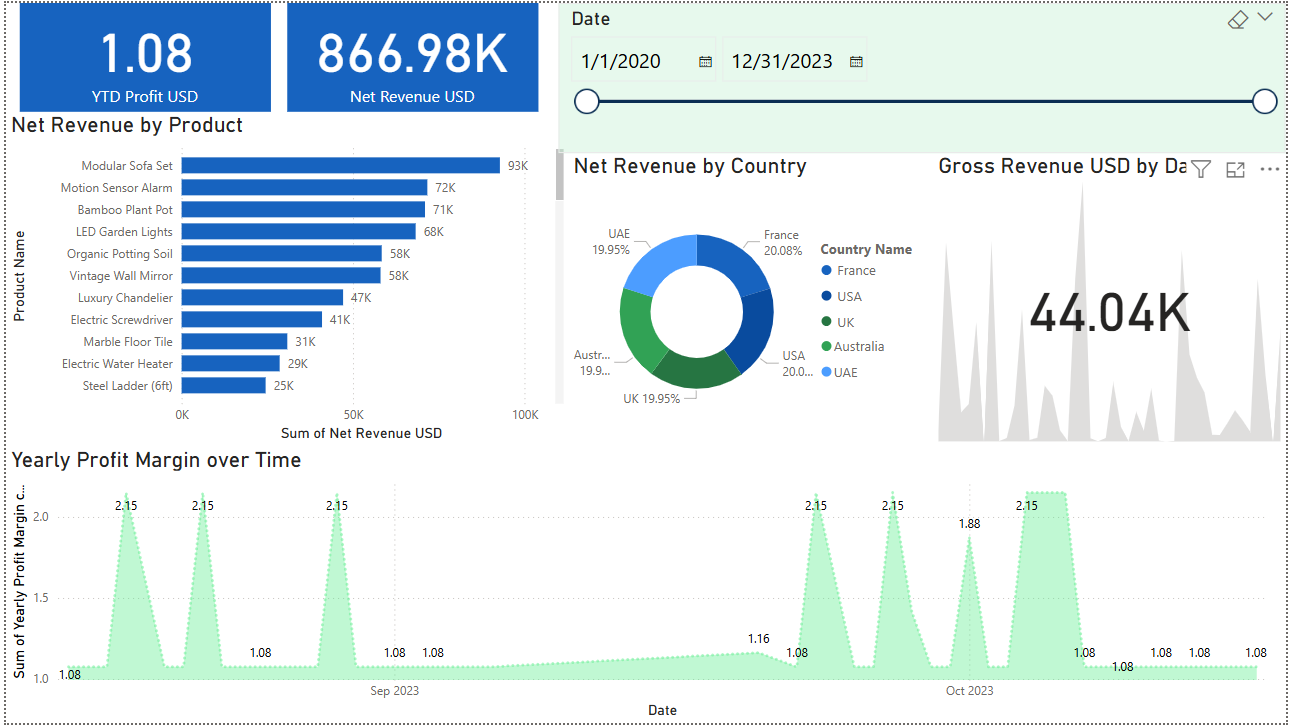

The dashboard page shown, as its layout file describes it:
{"tool":"powerbi","page":{"name":"USD Profit Overview","canvas":[1280,720],"ordinal":2},"visuals":[{"type":"clusteredBarChart","title":"Net Revenue by Product","fields":{"Category":["Sales in USD.Product Name"],"Y":["Sum(Sales in USD.Net Revenue USD)"]},"box":[0,108.8,562.5,335],"z":0},{"type":"donutChart","title":"Net Revenue by Country","fields":{"Category":["Sales in USD.Country Name"],"Y":["Sales in USD.Yearly Profit Margin"]},"box":[562.5,150,365,293.8],"z":1000},{"type":"areaChart","title":"Yearly Profit Margin over Time","fields":{"Category":["Calendar.Date"],"Y":["Sum(Sales in USD.Yearly Profit Margin col)"]},"box":[0,443.8,1280,276.2],"z":2000},{"type":"card","fields":{"Values":["Sales in USD.YTD Profit"]},"box":[13.3,0,250.9,108.6],"z":3000},{"type":"card","fields":{"Values":["Sum(Sales in USD.Net Revenue USD)"]},"box":[281.1,0,250.9,108.6],"z":4000},{"type":"kpi","fields":{"Indicator":["Sum(Sales in USD.Gross Revenue USD)"],"TrendLine":["Calendar.Date"]},"box":[927.5,150,352.5,293.8],"z":5000},{"type":"slicer","fields":{"Values":["Calendar.Date"]},"box":[552.5,0,727.5,150],"z":6000}]}

Visuals, with their boxes in screenshot pixels (x1, y1, x2, y2), scaled from the page's 1280x720 canvas onto the 1296x728 screenshot:
"Net Revenue by Product" clusteredBarChart: (0, 110, 570, 449)
"Net Revenue by Country" donutChart: (570, 152, 939, 449)
"Yearly Profit Margin over Time" areaChart: (0, 449, 1295, 727)
card - Sales in USD.YTD Profit: (13, 0, 268, 110)
card - Sum(Sales in USD.Net Revenue USD): (285, 0, 539, 110)
kpi - Sum(Sales in USD.Gross Revenue USD) x Calendar.Date: (939, 152, 1295, 449)
slicer - Calendar.Date: (559, 0, 1295, 152)
